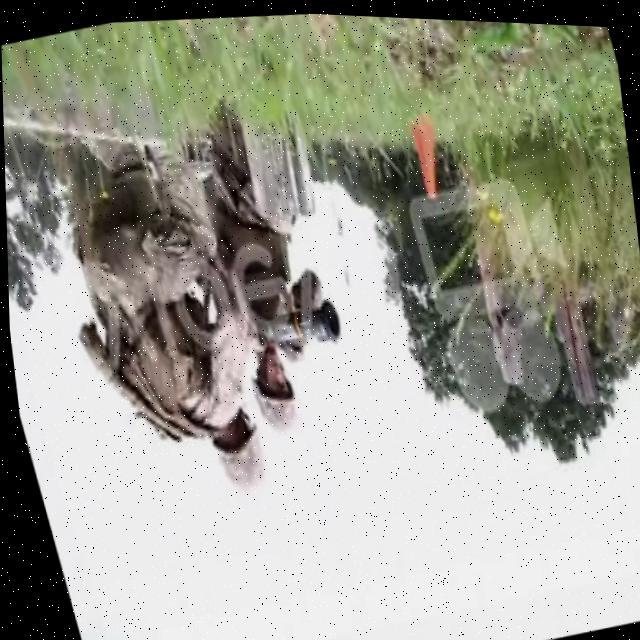rocket: (248, 290, 342, 359)
